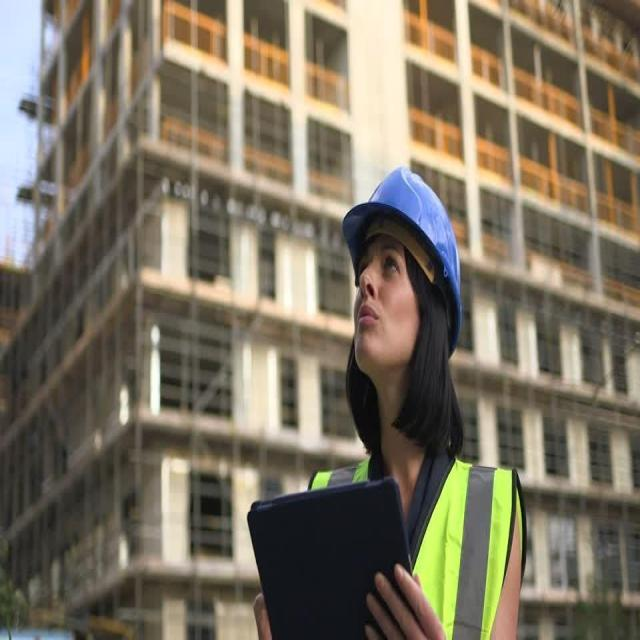Vest: (300, 452, 530, 640)
